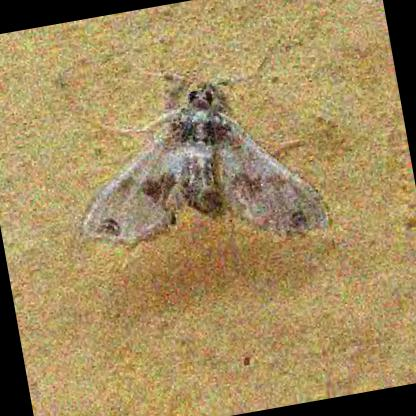leucinodes: (84, 81, 335, 243)
